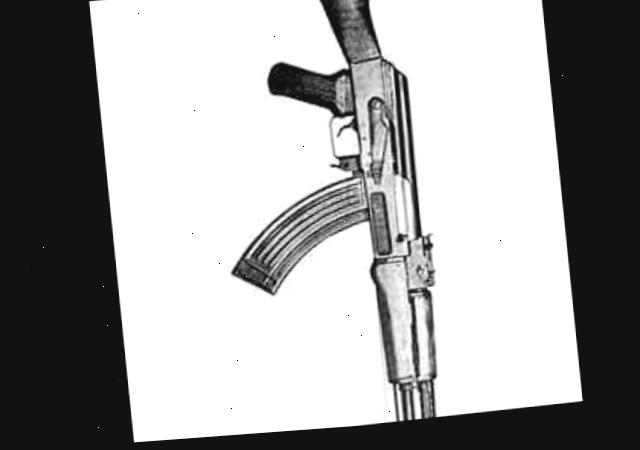rifle: (175, 0, 458, 440)
